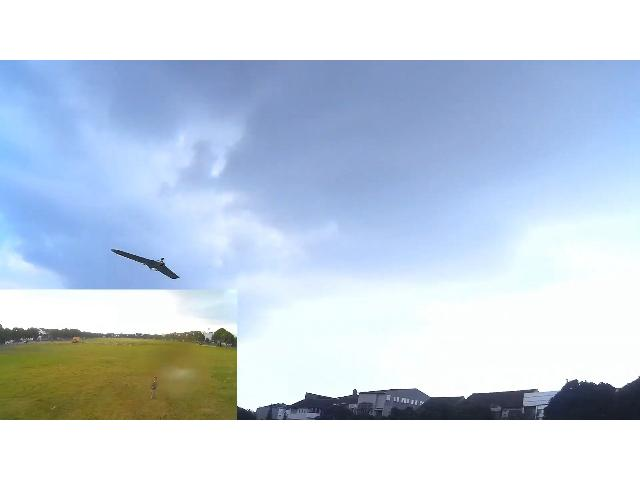Anti-Drone: (111, 249, 179, 279)
